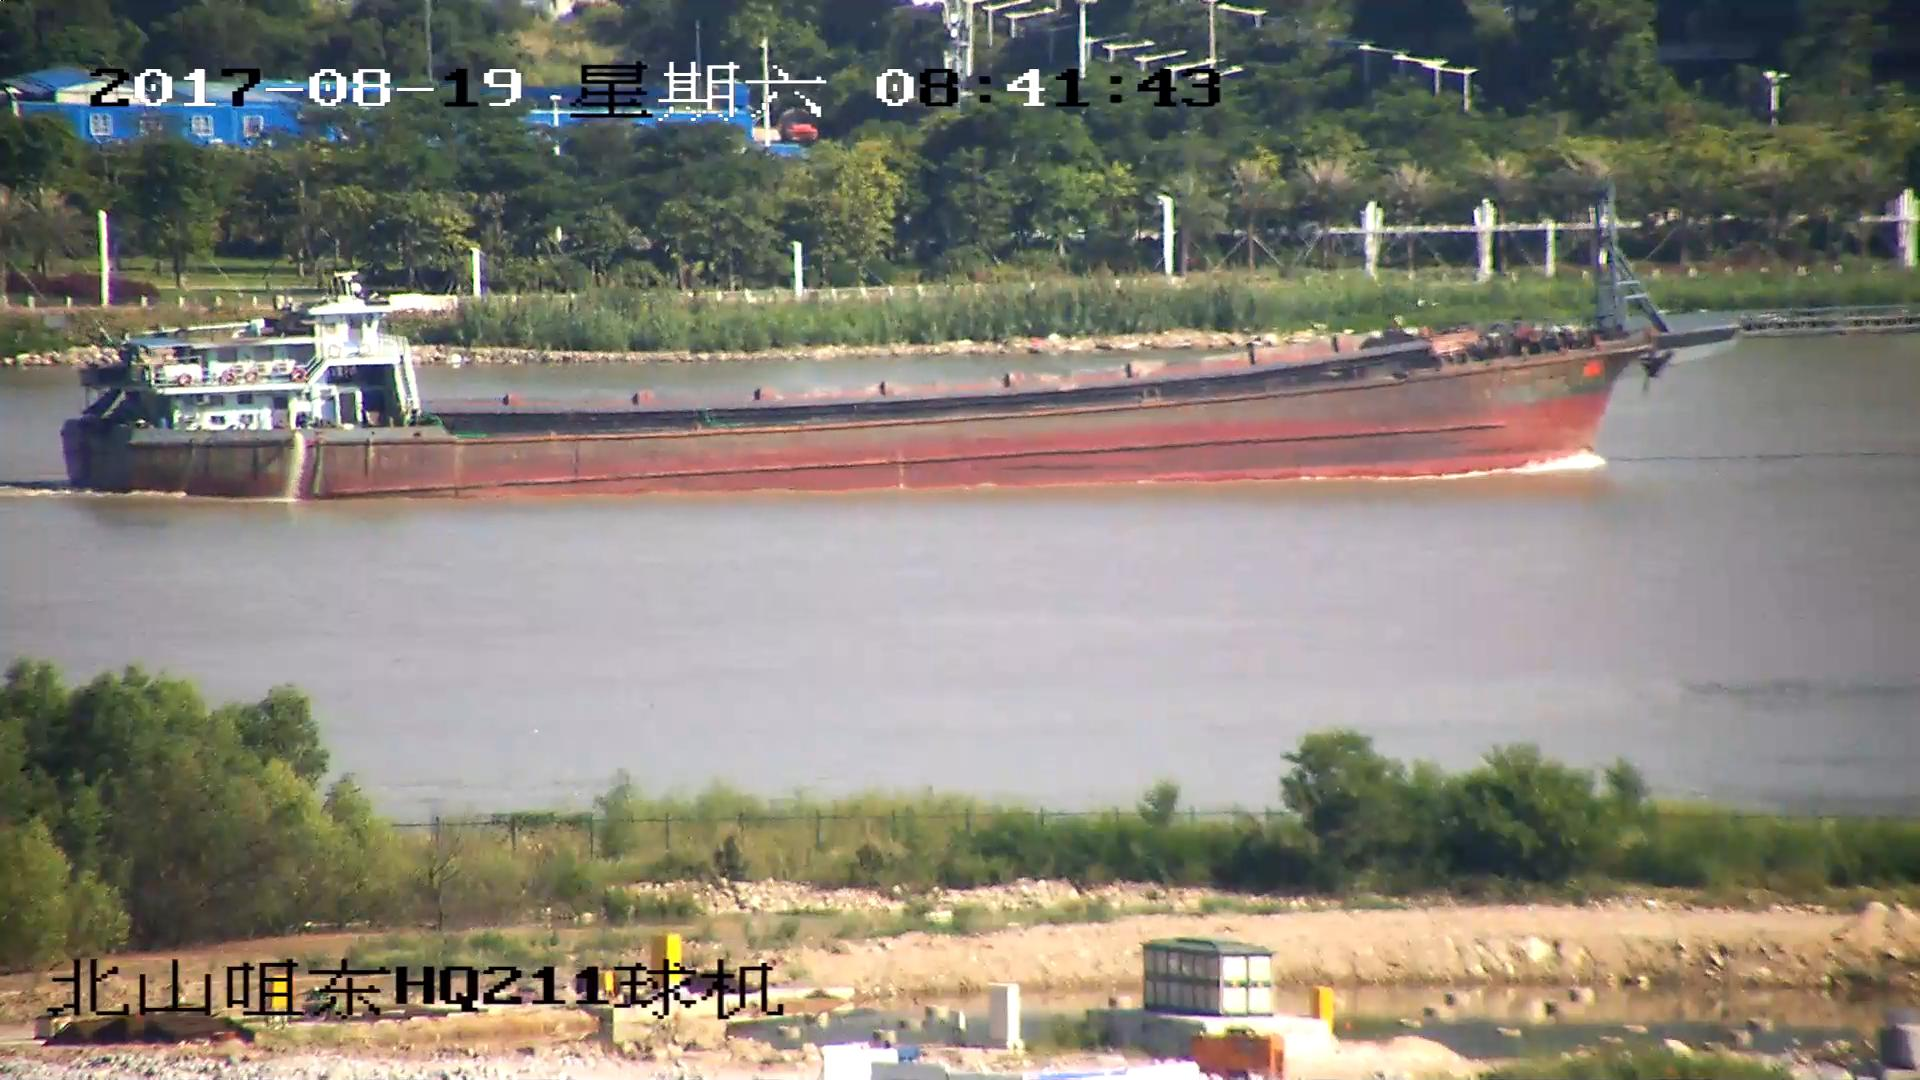bulk cargo carrier: (56, 190, 1920, 493)
